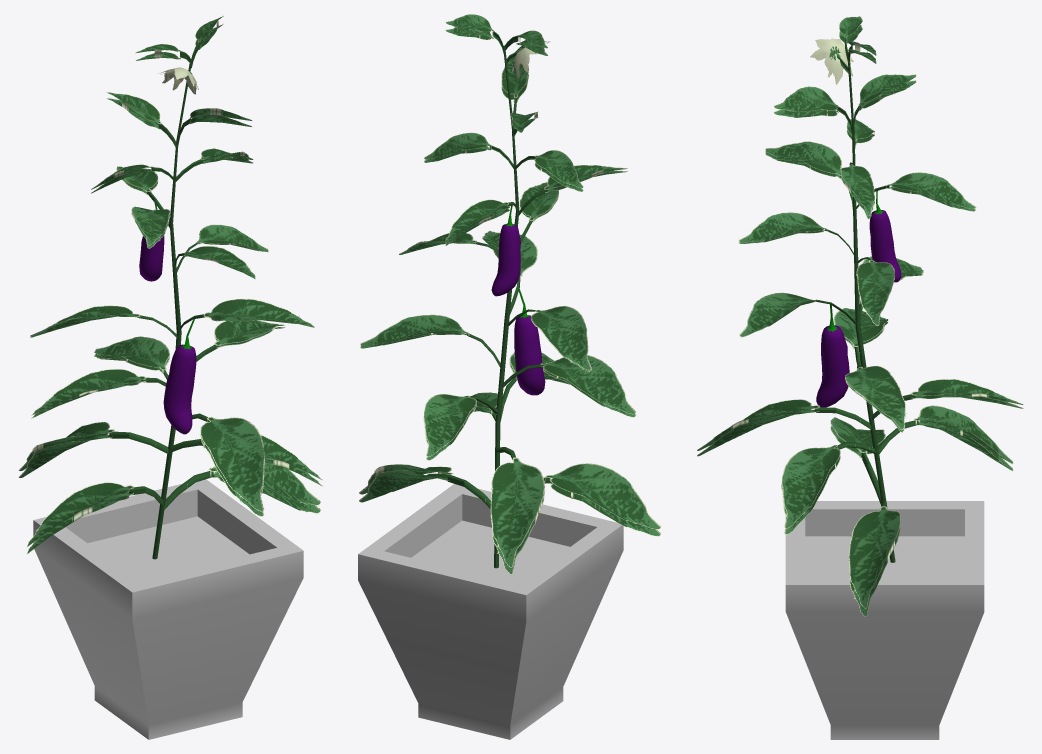
The model's file is egg_plant.fbx.
The picture shows the model from 3 angles, left to right: view 1: azimuth 30°, elevation 25°; view 2: azimuth 150°, elevation 25°; view 3: azimuth 270°, elevation 25°; orthographic projection. The views are drawn at different scales.
Parts seen in each view (by area): view 1: egg_plant1:pot, egg_plant1:jalapeno_plant:LOD0LOD_0polySurface52, egg_plant1:soli, stem, egg_plant1:polySurface2, egg_plant1:jalapeno_plant:polySurface1LOD0LOD_0; view 2: egg_plant1:pot, egg_plant1:jalapeno_plant:LOD0LOD_0polySurface52, egg_plant1:soli, stem, egg_plant1:polySurface2; view 3: egg_plant1:pot, egg_plant1:jalapeno_plant:LOD0LOD_0polySurface52, egg_plant1:soli, stem, egg_plant1:polySurface2, egg_plant1:jalapeno_plant:polySurface1LOD0LOD_0.
Part boxes in pixels (x1,y1,x2,y2): egg_plant1:pot: [33, 479, 303, 739]; egg_plant1:jalapeno_plant:LOD0LOD_0polySurface52: [18, 16, 322, 553]; egg_plant1:soli: [88, 516, 249, 581]; stem: [109, 41, 218, 559]; egg_plant1:polySurface2: [139, 203, 196, 434]; egg_plant1:jalapeno_plant:polySurface1LOD0LOD_0: [158, 67, 198, 94]; egg_plant1:pot: [358, 484, 623, 739]; egg_plant1:jalapeno_plant:LOD0LOD_0polySurface52: [359, 14, 660, 574]; egg_plant1:soli: [411, 520, 569, 584]; stem: [447, 31, 550, 568]; egg_plant1:polySurface2: [491, 205, 545, 395]; egg_plant1:pot: [785, 501, 984, 739]; egg_plant1:jalapeno_plant:LOD0LOD_0polySurface52: [697, 16, 1023, 616]; egg_plant1:soli: [805, 536, 964, 576]; stem: [815, 36, 918, 562]; egg_plant1:polySurface2: [816, 191, 901, 407]; egg_plant1:jalapeno_plant:polySurface1LOD0LOD_0: [810, 38, 853, 84].
Bounding box in the file's own units: 35.25 × 75.38 × 33.05.
